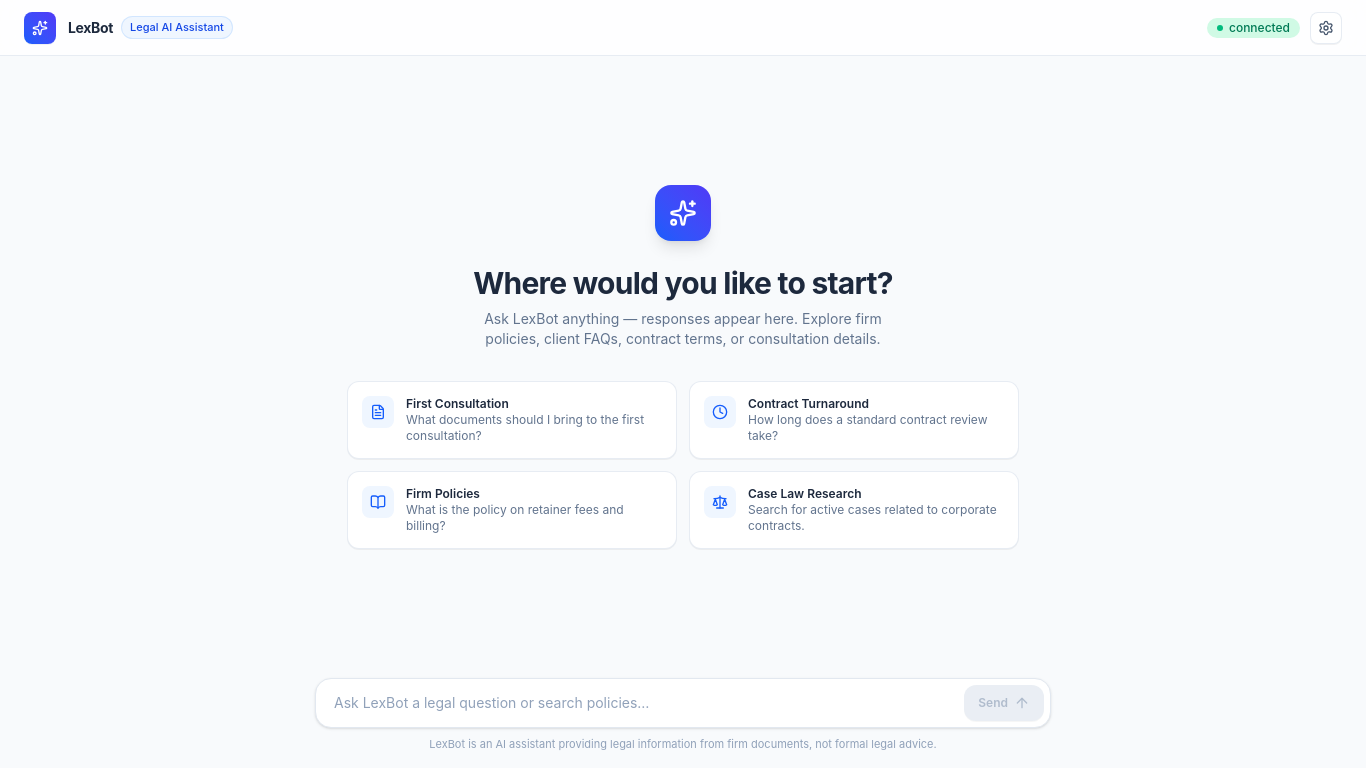
Test case: ChatView › renders source cards and action badges with all fields (UI-2.1)
In the field named "message": (643, 702) 322,684 -> 964,720, type "how does lexbot work?"
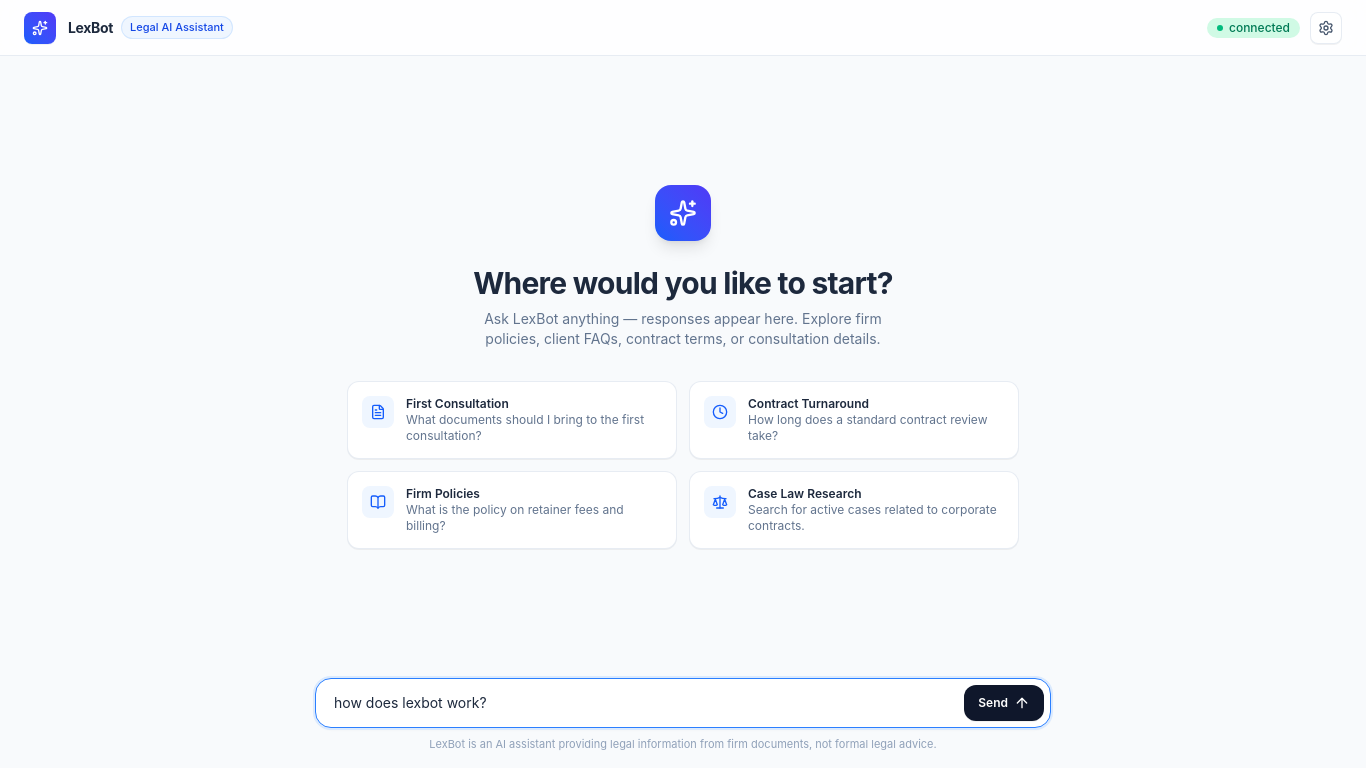
Click the button "Send": (1004, 702) 964,684 -> 1044,720
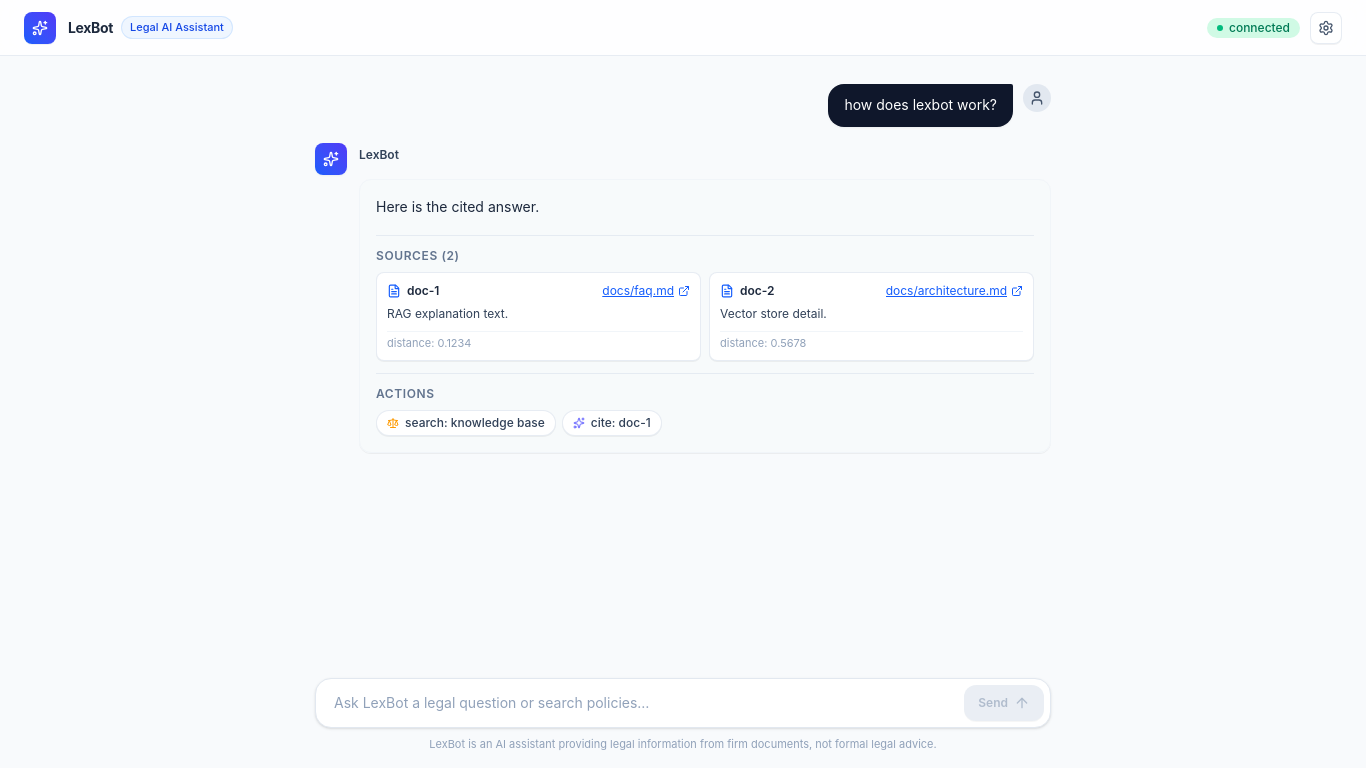
Now the text "Here is the cited answer." is shown, box 376,198 -> 539,215
Now the element with test id "sources-section" is shown, box 376,234 -> 1034,361
Now the element with test id "actions-section" is shown, box 376,373 -> 1034,436
